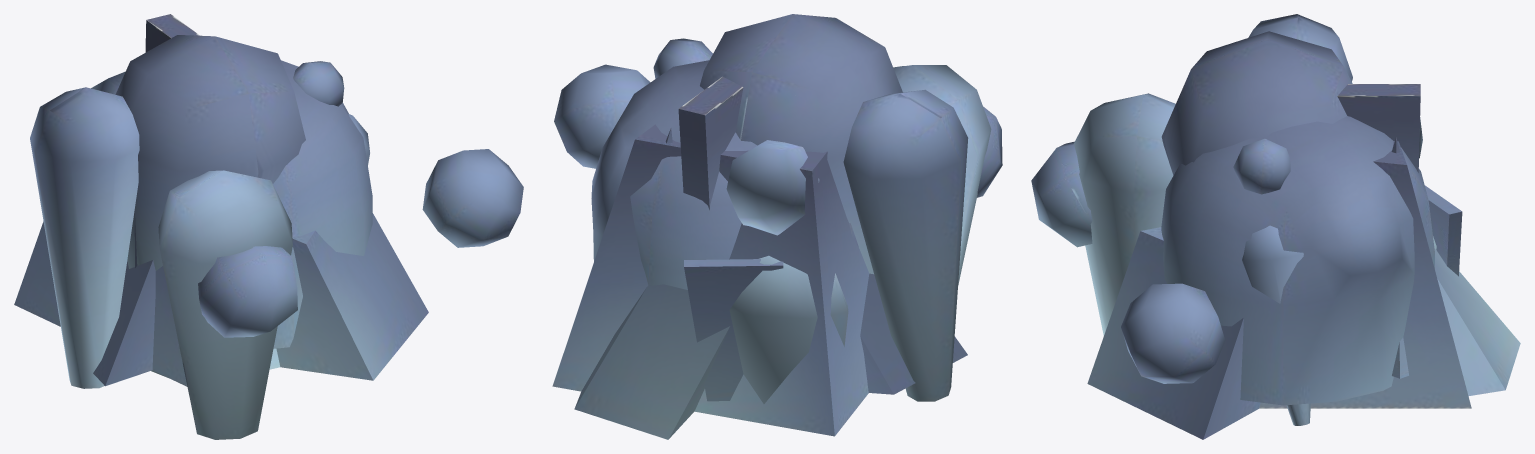
The model's file is Medium_Deco.fbx.
3 renders of one model, left to right at view 1: azimuth 30°, elevation 25°; view 2: azimuth 150°, elevation 25°; view 3: azimuth 270°, elevation 25°, orthographic. The views are drawn at different scales.
Visible parts, largest first — view 1: Medium_Moss, Medium_Grass_2, Medium_Rock, Medium_Grass_3; view 2: Medium_Moss, Medium_Rock, Medium_Grass_2, Medium_Grass_3; view 3: Medium_Grass_2, Medium_Moss, Medium_Rock, Medium_Grass_3, Medium_Grass_1.
Boxes of the visible parts, bbox=[...] form: Medium_Moss: bbox=[30, 35, 369, 439]; Medium_Grass_2: bbox=[198, 60, 523, 348]; Medium_Rock: bbox=[14, 213, 428, 386]; Medium_Grass_3: bbox=[134, 14, 199, 267]; Medium_Moss: bbox=[653, 14, 991, 403]; Medium_Rock: bbox=[552, 124, 967, 439]; Medium_Grass_2: bbox=[554, 60, 1002, 289]; Medium_Grass_3: bbox=[678, 76, 783, 401]; Medium_Grass_2: bbox=[1031, 116, 1434, 405]; Medium_Moss: bbox=[1073, 14, 1436, 425]; Medium_Rock: bbox=[1087, 141, 1520, 439]; Medium_Grass_3: bbox=[1337, 84, 1462, 276]; Medium_Grass_1: bbox=[1391, 137, 1408, 378].
Bounding box in the file's own units: 154 × 119 × 151.
